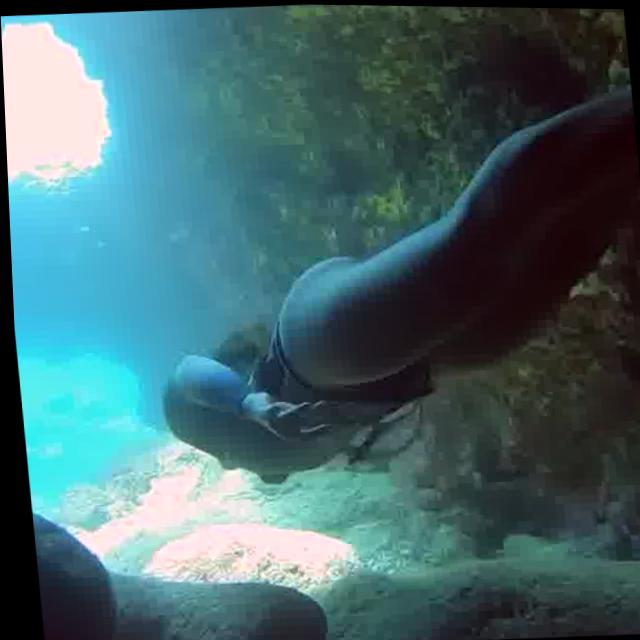human: (119, 1, 640, 513)
